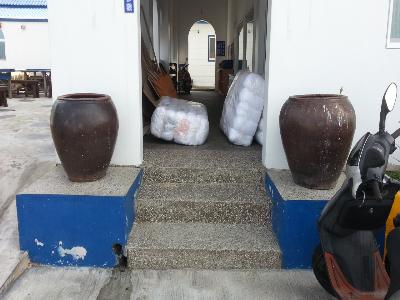bowl: (276, 92, 359, 190), (50, 92, 120, 183)
